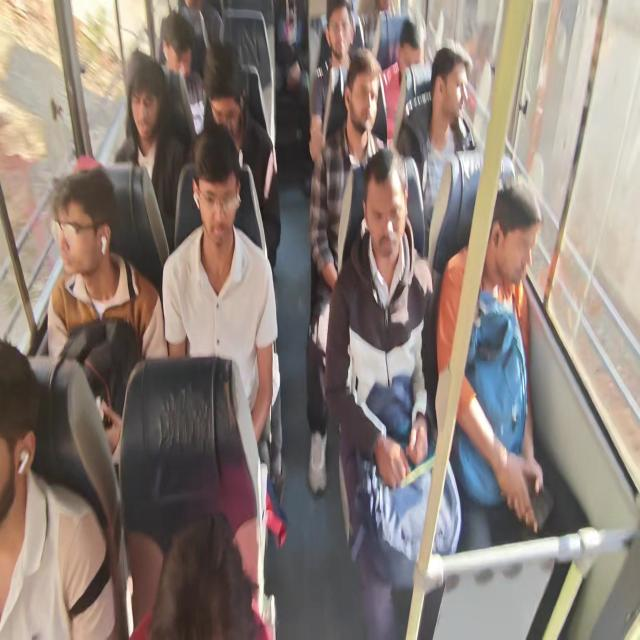person: (323, 146, 462, 635), (161, 122, 280, 485), (119, 355, 269, 637), (436, 177, 544, 548), (46, 155, 168, 468), (306, 48, 388, 496), (0, 338, 117, 638), (202, 42, 282, 273), (129, 511, 272, 638), (397, 44, 476, 248), (114, 55, 187, 252), (308, 1, 356, 167), (159, 11, 207, 138), (375, 18, 422, 146), (178, 0, 224, 80)
